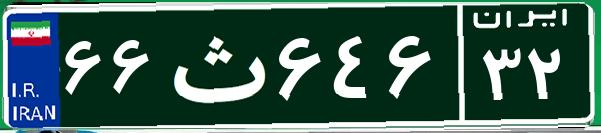2: (525, 38, 570, 115)
3: (475, 38, 525, 113)
4: (330, 28, 385, 110)
6: (385, 28, 445, 110), (273, 28, 330, 110), (57, 26, 110, 107), (110, 28, 158, 105)
ث: (158, 15, 273, 115)
